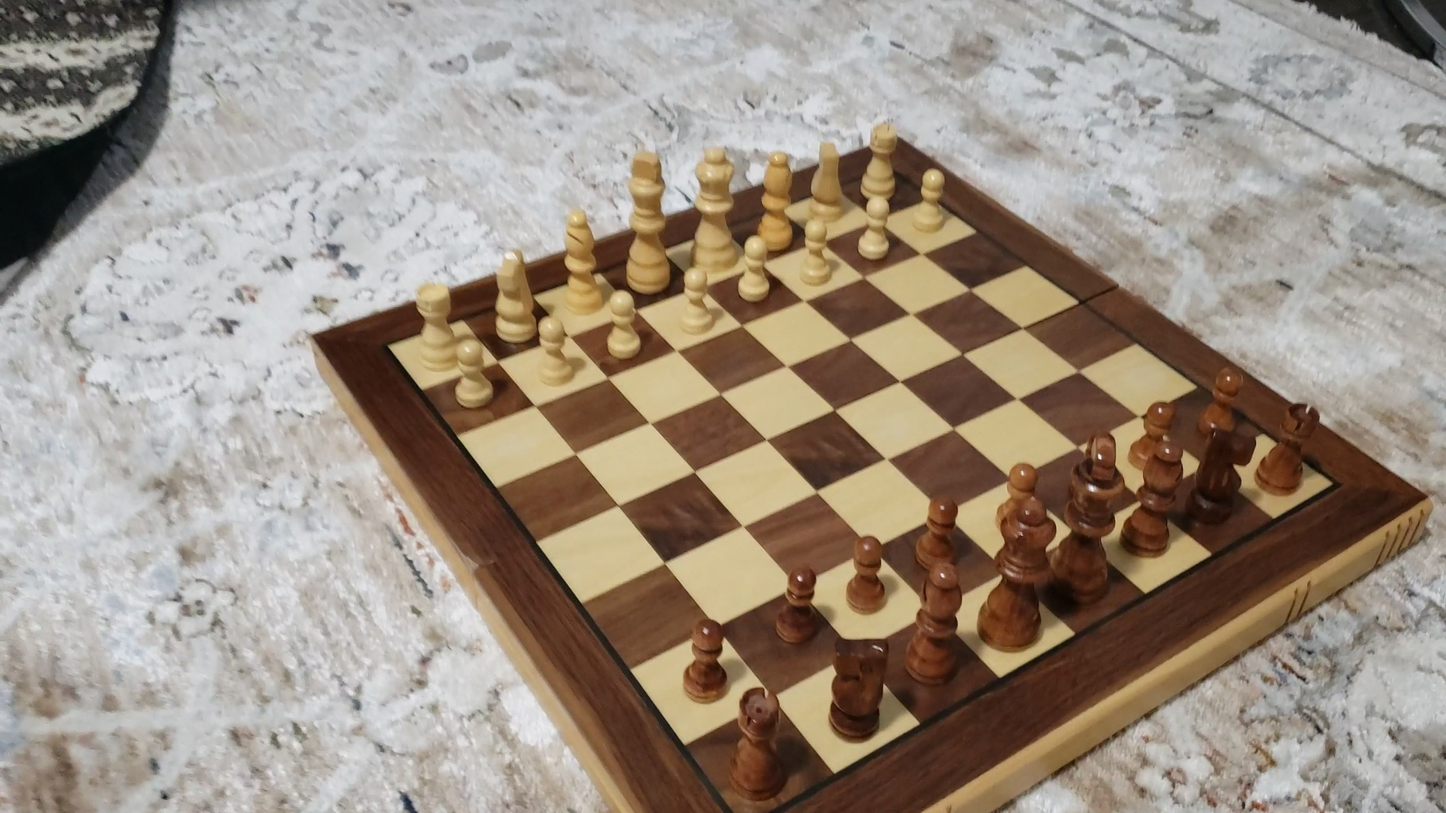black-bishop: (1121, 438, 1184, 558), (905, 563, 965, 686)
black-king: (1055, 429, 1125, 606)
black-knight: (1183, 405, 1253, 527), (825, 632, 892, 743)
black-pawn: (1190, 360, 1254, 435), (679, 616, 731, 707), (772, 562, 823, 649), (995, 458, 1043, 545), (914, 492, 961, 575), (844, 531, 888, 615), (1130, 395, 1176, 470)
black-queen: (977, 498, 1060, 652)
black-rook: (728, 686, 785, 802), (1255, 399, 1320, 497)
white-bishop: (559, 206, 606, 318), (757, 148, 796, 253)
white-king: (624, 142, 672, 296)
white-knight: (493, 247, 536, 347), (807, 131, 846, 224)
white-pawn: (447, 331, 499, 414), (529, 314, 580, 391), (795, 207, 840, 292), (729, 230, 778, 308), (674, 263, 723, 340), (599, 286, 646, 365), (906, 162, 953, 238), (852, 191, 898, 266)
white-queen: (691, 139, 738, 276)
white-rook: (405, 282, 465, 370), (861, 117, 900, 210)
